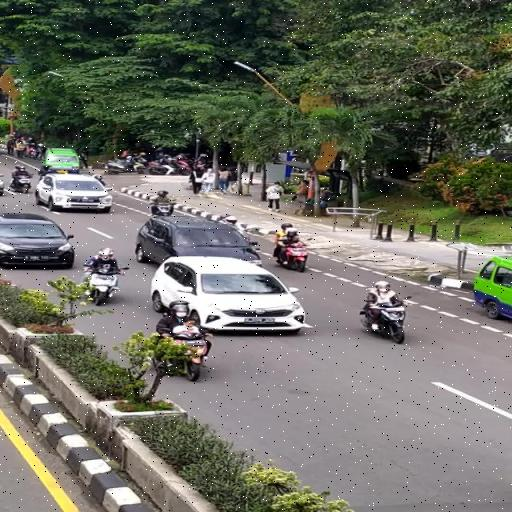Helmet: (170, 302, 189, 322), (375, 278, 393, 297), (98, 248, 114, 264), (285, 225, 297, 238)
Motor: (150, 328, 210, 380), (362, 300, 409, 342), (79, 269, 123, 309), (269, 244, 309, 270)
